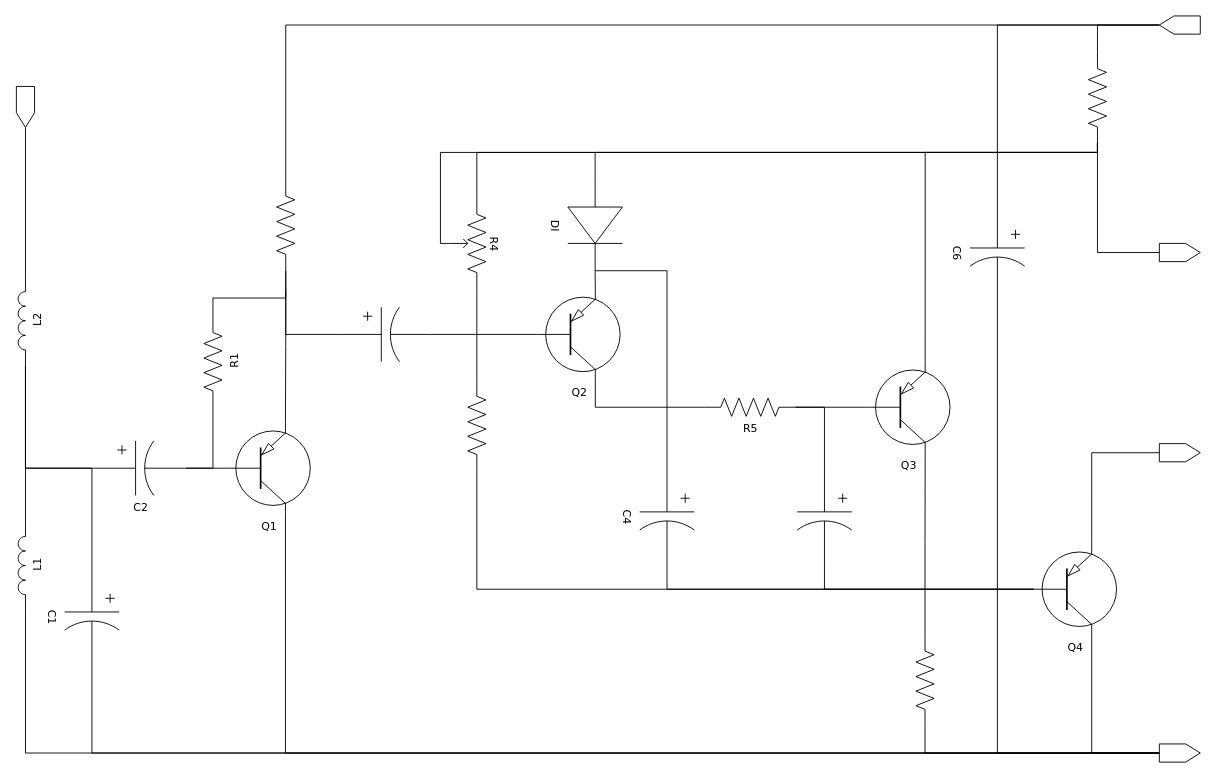
Image size: 1216x778. Some labels were removed from this diagram. The shapes that lost their labels are listed below. From the top down, each one's box as (x1, y1, x2, y2) in pixels, then its label:
(1087, 51, 1107, 143): R7
(276, 179, 295, 271): R2
(339, 306, 431, 362): C3
(467, 379, 486, 471): R3
(796, 470, 852, 562): C5
(915, 634, 934, 726): R6
